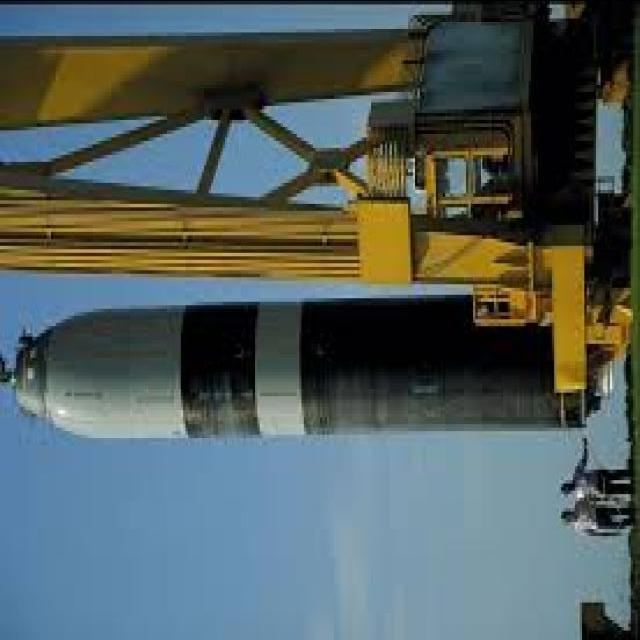missile: (0, 292, 569, 442)
